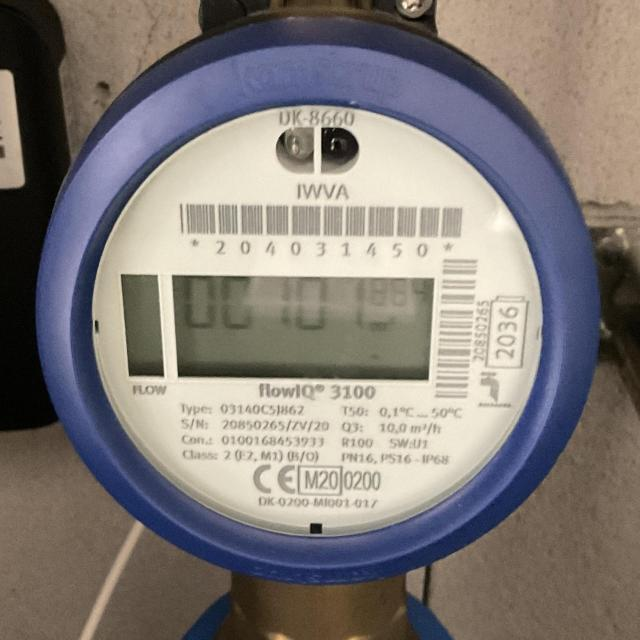gaz_meter: (88, 104, 542, 540)
indication: (172, 275, 435, 380)
